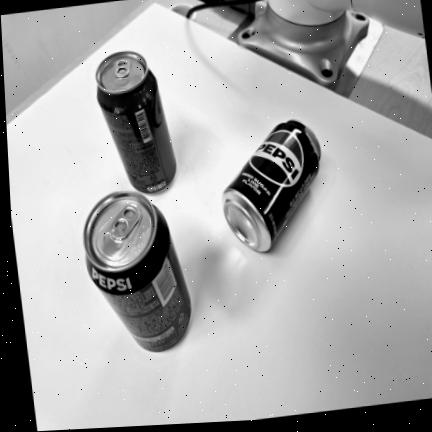can_coke_zero: (95, 51, 176, 193)
can_pepsi: (82, 189, 190, 351)
can_pepsi_zero: (222, 120, 320, 251)
